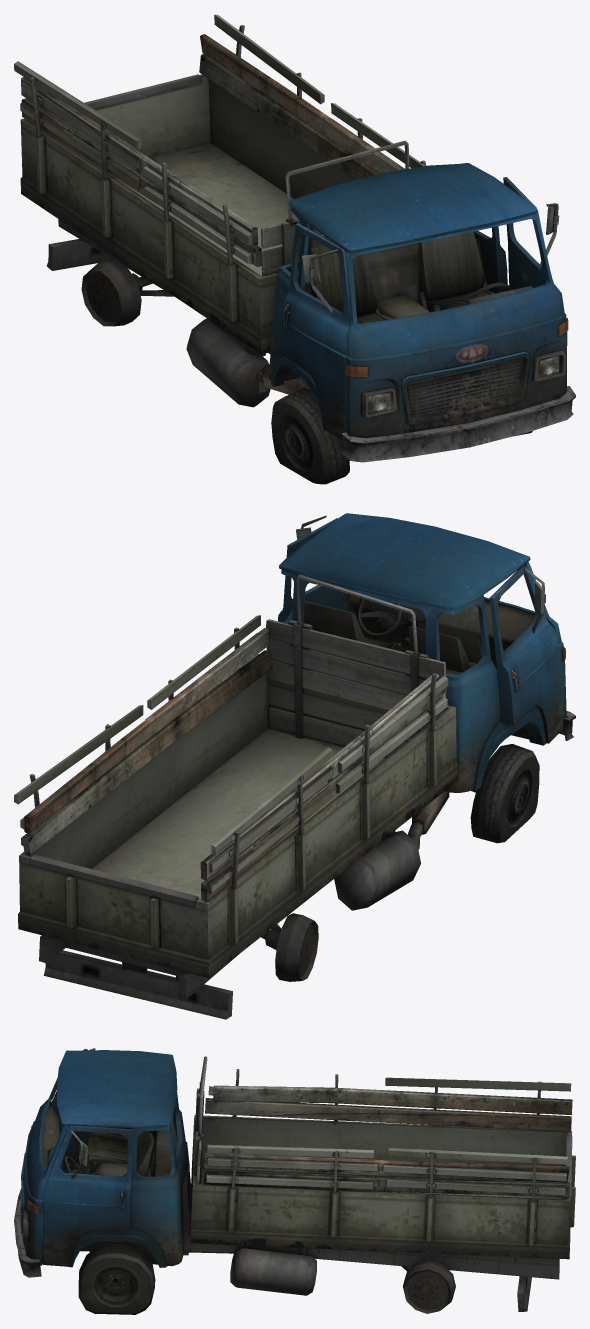
The model's file is truck001a.fbx.
3 views of the same model, one above another, from view 1: azimuth 30°, elevation 25°; view 2: azimuth 150°, elevation 25°; view 3: azimuth 270°, elevation 25° (orthographic). The views are drawn at different scales.
Visible parts, largest first — view 1: studiomesh_10; view 2: studiomesh_10; view 3: studiomesh_10.
Boxes of the visible parts, x1=… form: studiomesh_10: x1=14, y1=14, x2=575, y2=484; studiomesh_10: x1=14, y1=513, x2=575, y2=1019; studiomesh_10: x1=14, y1=1048, x2=575, y2=1314.
Size of the model in its own units: 97.31 by 96.59 by 243.
